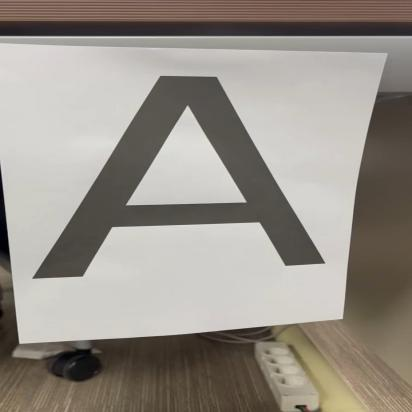seat: (18, 52, 336, 278)
